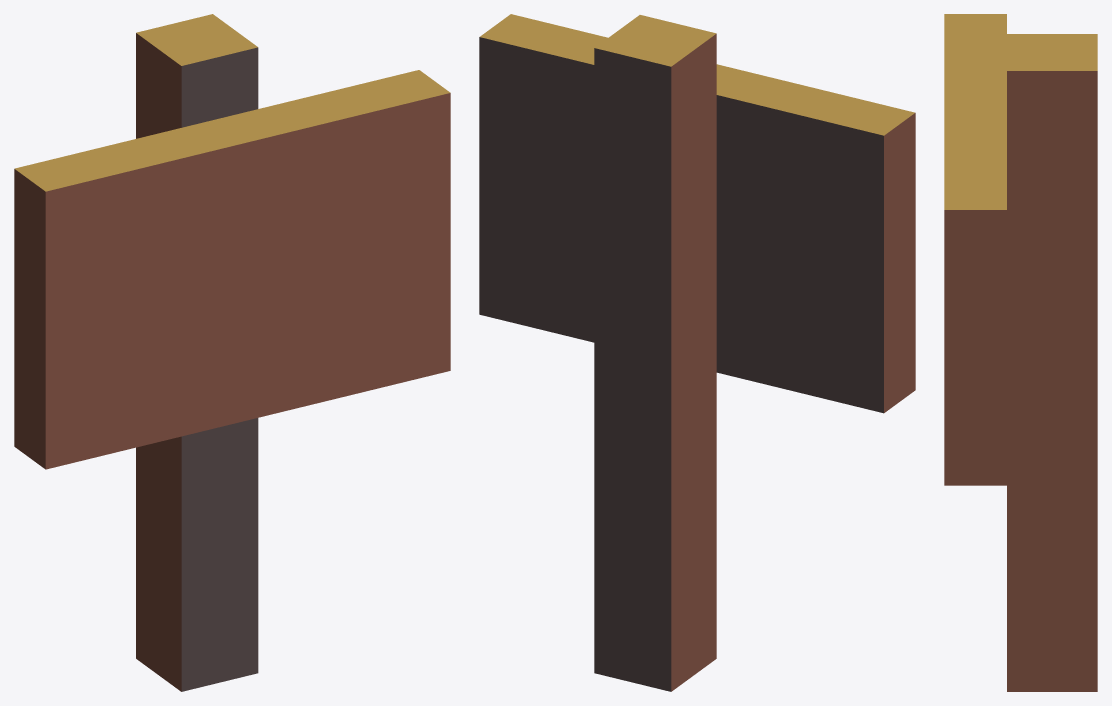
File: TB_D_Prop_Sign_Small_C.FBX
The picture shows the model from 3 angles, left to right: view 1: azimuth 30°, elevation 25°; view 2: azimuth 150°, elevation 25°; view 3: azimuth 270°, elevation 25°; orthographic projection.
Visible parts, largest first — view 1: TB_D_Prop_Sign_Small_C; view 2: TB_D_Prop_Sign_Small_C; view 3: TB_D_Prop_Sign_Small_C.
Boxes of the visible parts, x1,y1,x2,y2 form: TB_D_Prop_Sign_Small_C: (14,14,450,691); TB_D_Prop_Sign_Small_C: (479,14,915,691); TB_D_Prop_Sign_Small_C: (944,14,1097,691).
Bounding box in the file's own units: 0.8771 × 1.3 × 0.2894.
